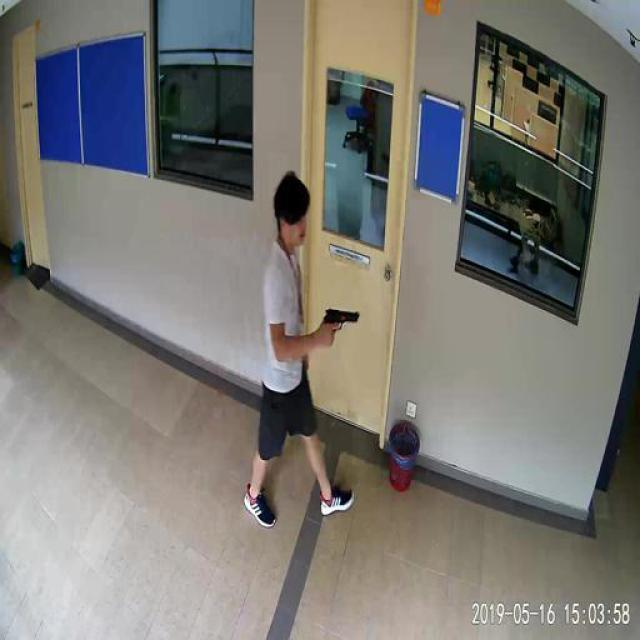Gun: (322, 306, 358, 345)
